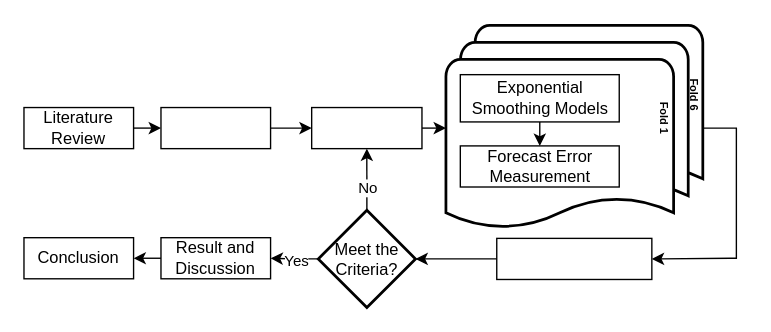
Some shapes in this 771 by 332 pixel diagram are drawn without their labels. Here are the shapes that lost their labels. From the top down, the centre of each, then its label:
point (215, 127): Data Collecting
point (366, 127): Data Preprocessing
point (573, 258): Averaging Forecast Measurement
